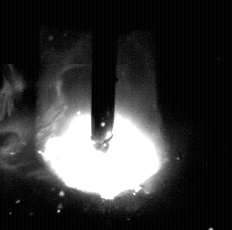arame: (92, 0, 116, 153)
poca: (36, 0, 170, 230)
